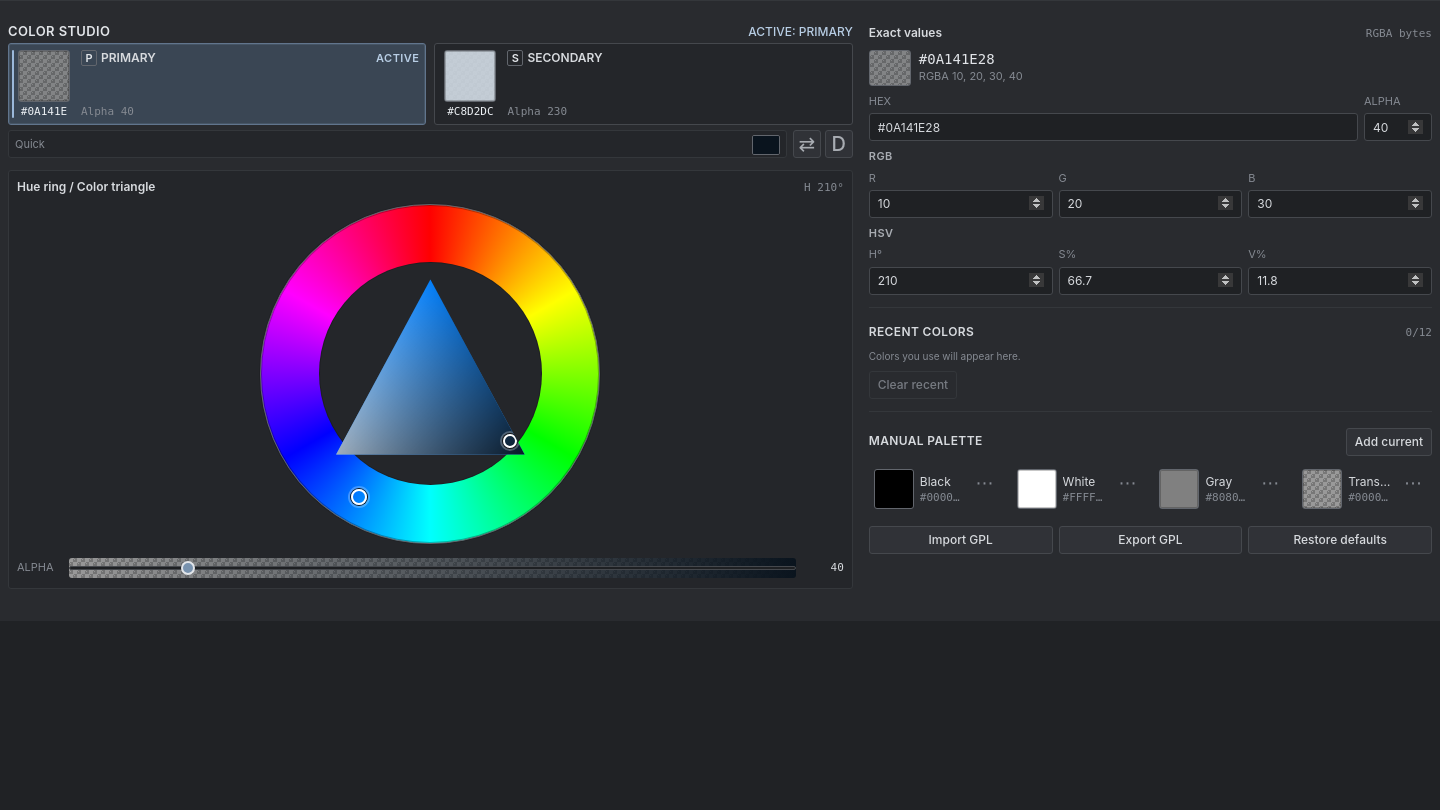
Test case: persistent Color Workspace › records a changed color as one exact recent swatch and keeps it bounded in the workspace
Replace the text in the number field named "Red channel" with "99" at (961, 204), box 869,190 -> 1052,218
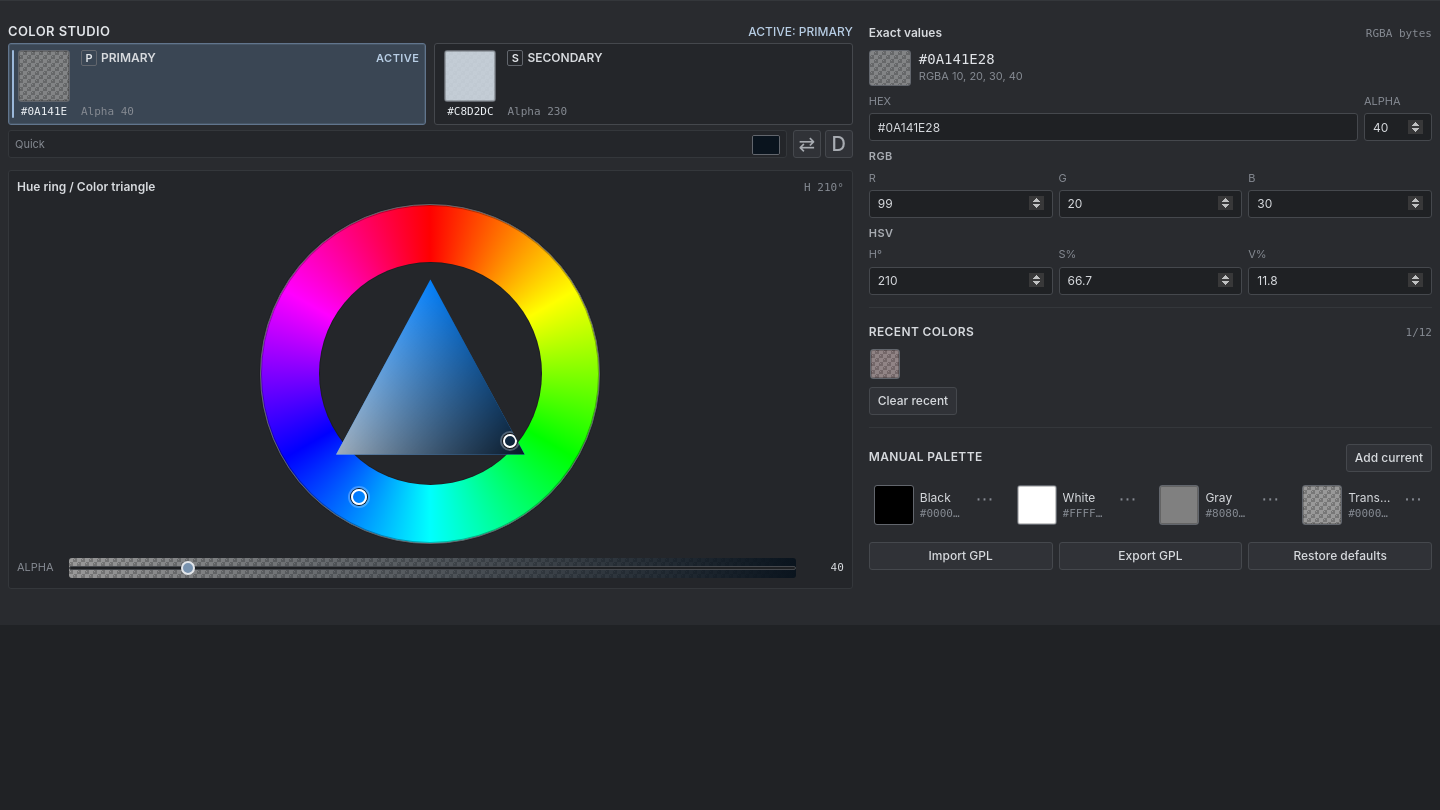
Now the number of buttons with class "color-recent-list__chip" is 1, box 870,348 -> 900,378
